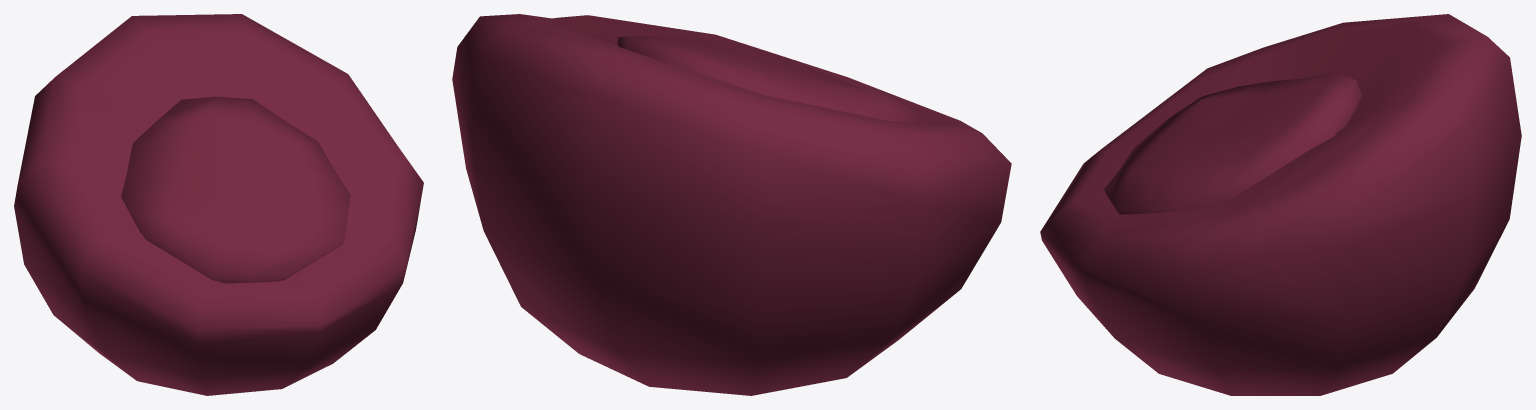
The model's file is sofa_3.fbx.
3 renders of one model, left to right at view 1: azimuth 30°, elevation 25°; view 2: azimuth 150°, elevation 25°; view 3: azimuth 270°, elevation 25°, orthographic. The views are drawn at different scales.
Visible parts, largest first — view 1: Sphere; view 2: Sphere; view 3: Sphere.
Part boxes in pixels (bbox=[...]): Sphere: bbox=[14, 14, 423, 395]; Sphere: bbox=[452, 14, 1011, 395]; Sphere: bbox=[1040, 14, 1521, 395].
Size of the model in its own units: 401 by 288 by 413.
